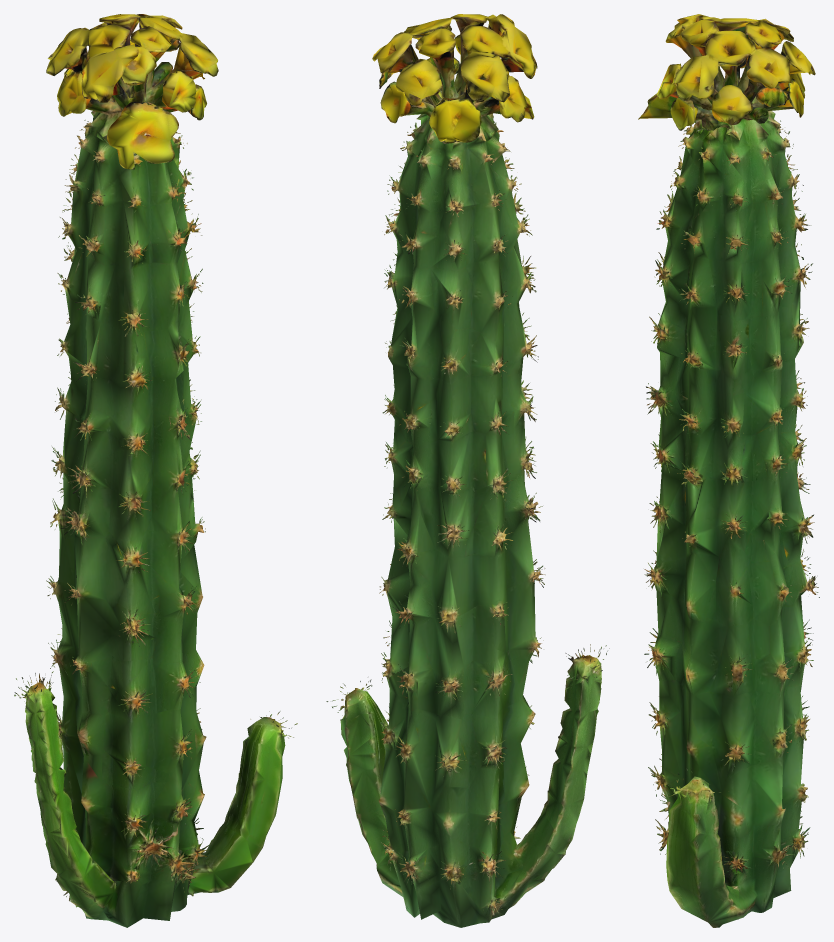
File: cactus_b.glb
3 views of the same model, side by side, from view 1: azimuth 30°, elevation 25°; view 2: azimuth 150°, elevation 25°; view 3: azimuth 270°, elevation 25° (orthographic).
Bounding box in the file's own units: 0.6446 × 2 × 0.3759.
Materials: 1 (1 with a texture image).
